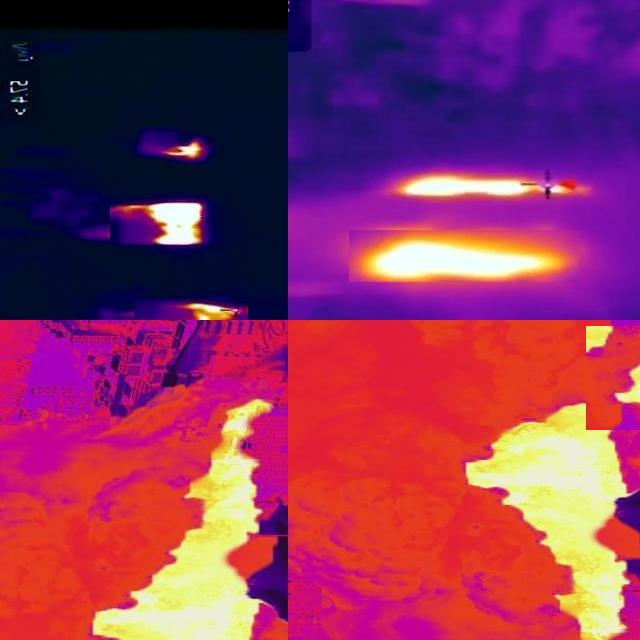fire: (89, 403, 289, 640), (460, 402, 640, 640), (349, 231, 579, 283), (395, 176, 589, 204), (585, 327, 640, 408), (110, 202, 206, 246), (134, 300, 248, 321), (155, 141, 207, 161)
